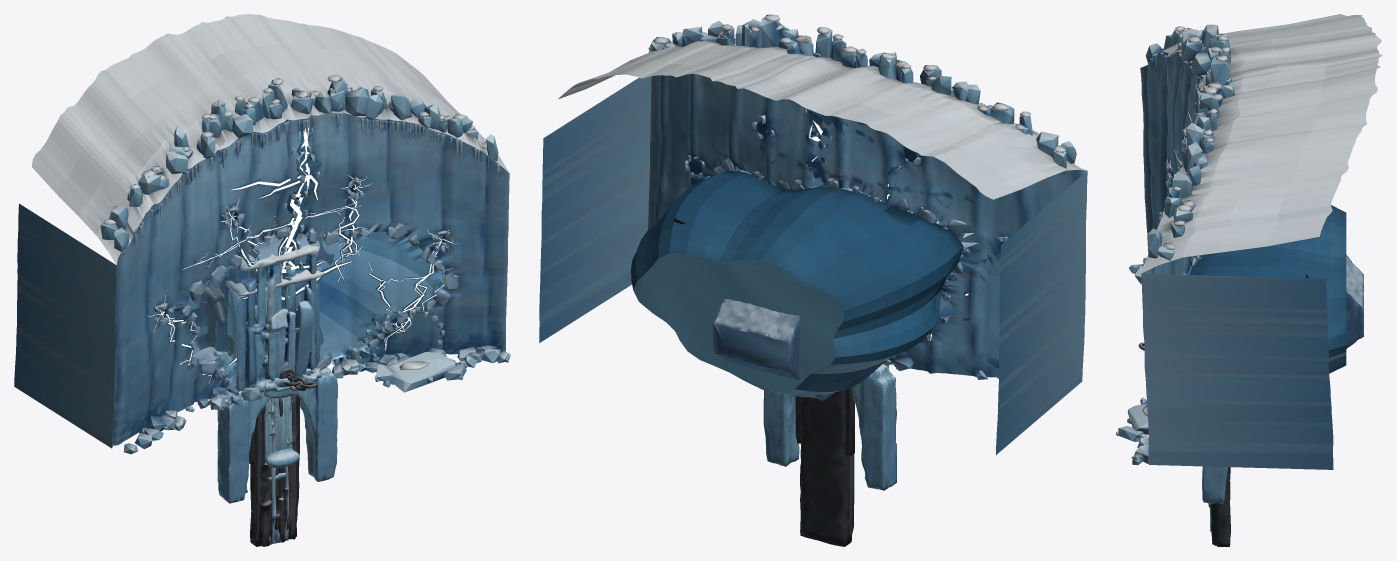
The model's file is gravewyrm_sanctum_kit.glb.
The picture shows the model from 3 angles, left to right: view 1: azimuth 30°, elevation 25°; view 2: azimuth 150°, elevation 25°; view 3: azimuth 270°, elevation 25°; orthographic projection. The views are drawn at different scales.
Parts seen in each view (by area): view 1: Kit_CalvingFace, Kit_FaceCalved, Kit_IceBridge, Kit_GlacierWallA, Kit_RockCliff, Kit_GlacierWallB, Kit_FaceCrack_3, Kit_FacePlateFallen, Kit_FrozenFall, Kit_SeracL, Kit_FaceCrack_1, Kit_WyrmSilhouette (+1 smaller); view 2: Kit_CalvingFace, Kit_FaceCalved, Kit_RockCliff, Kit_IceBridge, Kit_IceFall, Kit_FrozenFall; view 3: Kit_CalvingFace, Kit_FaceCalved, Kit_IceFall, Kit_RockCliff, Kit_IceBridge, Kit_FacePlateFallen.
Boxes of the visible parts, x1,y1,x2,y2 form: Kit_CalvingFace: (14,14,509,454); Kit_FaceCalved: (14,14,510,446); Kit_IceBridge: (217,367,337,503); Kit_GlacierWallA: (215,233,321,392); Kit_RockCliff: (250,395,300,546); Kit_GlacierWallB: (215,266,324,391); Kit_FaceCrack_3: (228,127,351,366); Kit_FacePlateFallen: (374,352,467,392); Kit_FrozenFall: (249,396,299,467); Kit_SeracL: (265,308,310,390); Kit_FaceCrack_1: (357,261,453,362); Kit_WyrmSilhouette: (201,234,334,366); Kit_CalvingFace: (539,25,1087,453); Kit_FaceCalved: (539,14,1087,454); Kit_RockCliff: (800,389,854,546); Kit_IceBridge: (763,364,896,490); Kit_IceFall: (713,298,834,400); Kit_FrozenFall: (795,387,854,456); Kit_CalvingFace: (1129,14,1382,463); Kit_FaceCalved: (1132,14,1378,469); Kit_IceFall: (1346,254,1363,348); Kit_RockCliff: (1208,467,1230,546); Kit_IceBridge: (1202,466,1227,503); Kit_FacePlateFallen: (1116,397,1148,441).
Bounding box in the file's own units: 168 × 180 × 89.72.
